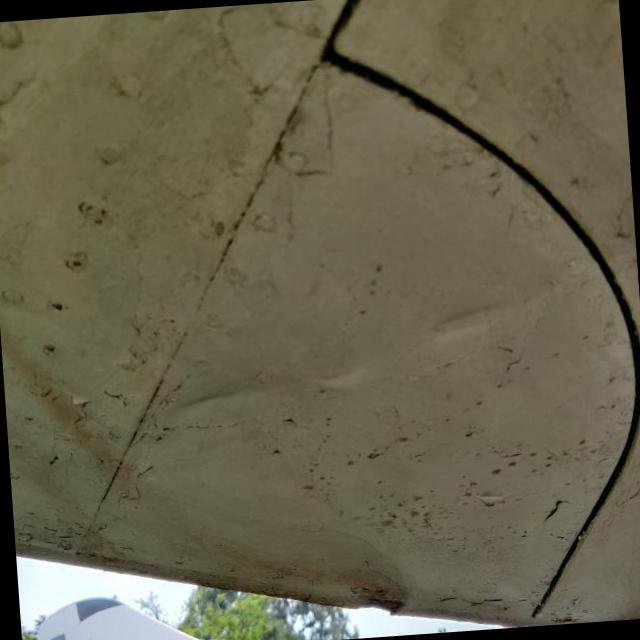Dent: (149, 343, 274, 451), (404, 282, 526, 377)
